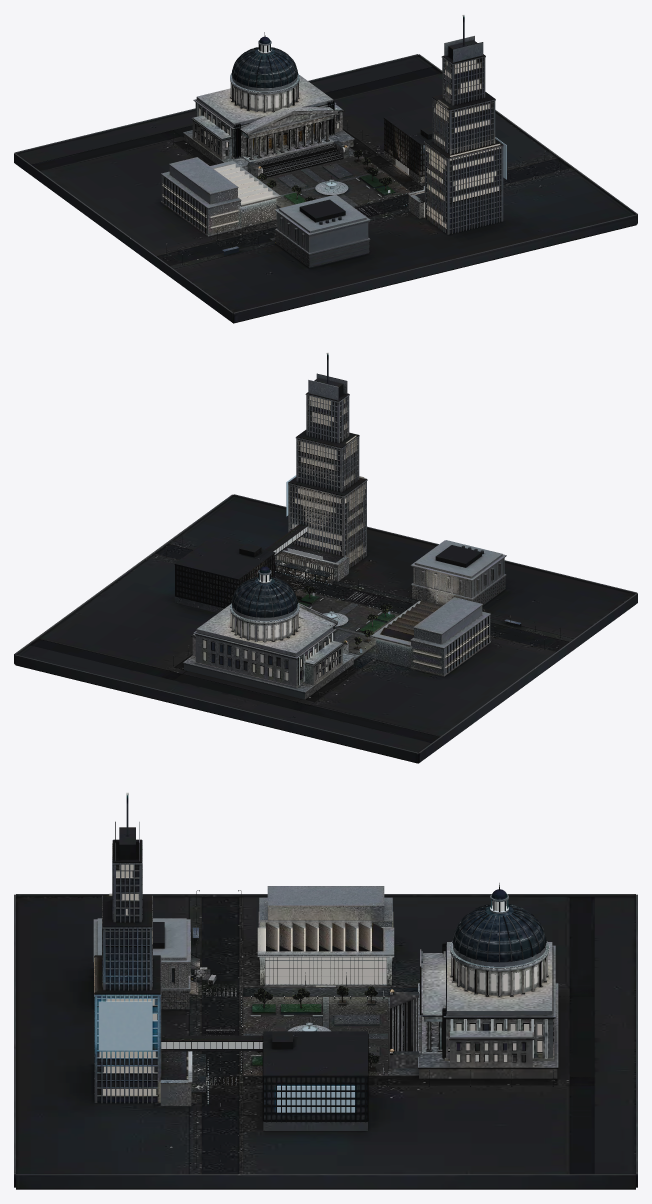
The model's file is civic_core_low.glb.
The picture shows the model from 3 angles, top to bottom: view 1: azimuth 30°, elevation 25°; view 2: azimuth 150°, elevation 25°; view 3: azimuth 270°, elevation 25°; orthographic projection. The views are drawn at different scales.
Parts seen in each view (by area): view 1: site_ground, props_council, props_executive, props_culture, props_reserve, site_plaza, props_admin, props_lights; view 2: site_ground, props_council, props_executive, props_culture, props_admin, props_reserve, site_plaza; view 3: site_ground, props_council, props_executive, props_culture, props_admin, site_plaza, props_signs, props_reserve, props_lights.
Boxes of the visible parts, <box> form: site_ground: <box>14,54,637,323</box>; props_council: <box>183,32,354,179</box>; props_executive: <box>403,14,503,234</box>; props_culture: <box>161,157,280,236</box>; props_reserve: <box>270,194,370,268</box>; site_plaza: <box>257,149,411,207</box>; props_admin: <box>383,106,432,183</box>; props_lights: <box>166,119,560,264</box>; site_ground: <box>14,494,637,763</box>; props_council: <box>183,562,354,699</box>; props_executive: <box>274,352,367,585</box>; props_culture: <box>371,597,490,676</box>; props_admin: <box>174,524,307,613</box>; props_reserve: <box>410,540,506,606</box>; site_plaza: <box>295,585,399,654</box>; site_ground: <box>14,894,637,1189</box>; props_council: <box>389,883,558,1078</box>; props_executive: <box>94,792,208,1106</box>; props_culture: <box>257,886,394,987</box>; props_admin: <box>161,1031,368,1130</box>; site_plaza: <box>243,985,387,1075</box>; props_signs: <box>98,991,384,1112</box>; props_reserve: <box>93,918,216,1010</box>; props_lights: <box>192,890,553,1167</box>.
Size of the model in its own units: 322 by 162 by 302.
9 materials, 9 textured.
